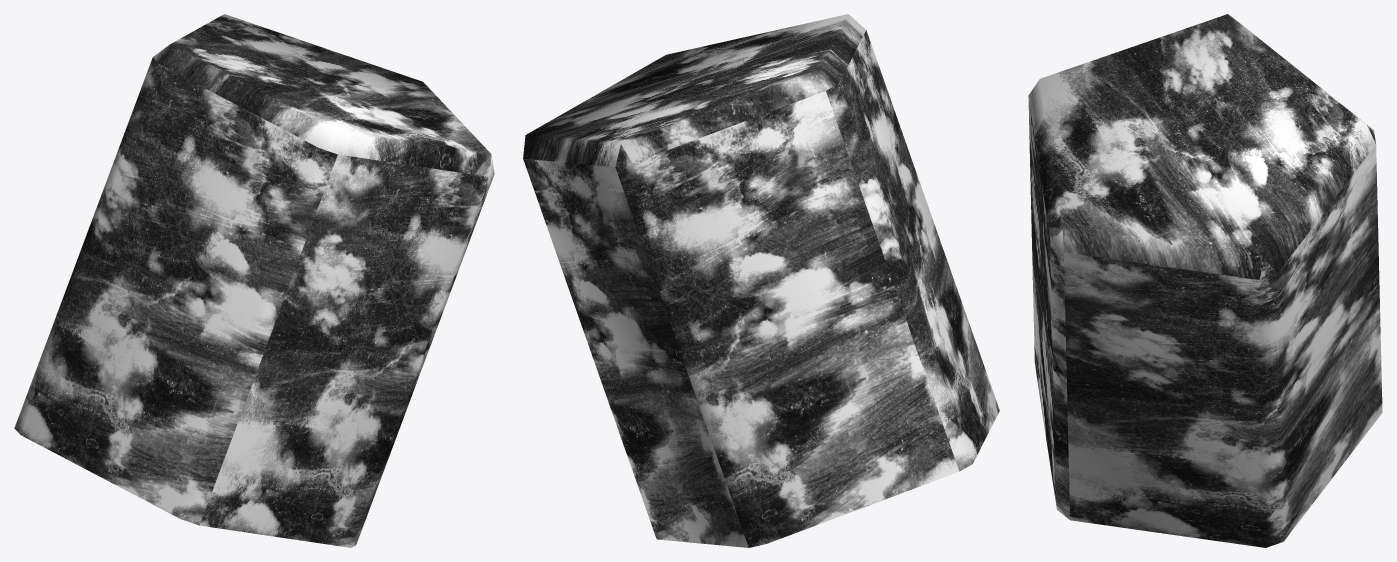
The model's file is Hex.FBX.
3 renders of one model, left to right at view 1: azimuth 30°, elevation 25°; view 2: azimuth 150°, elevation 25°; view 3: azimuth 270°, elevation 25°, orthographic. The views are drawn at different scales.
Parts seen in each view (by area): view 1: Cylinder004; view 2: Cylinder004; view 3: Cylinder004.
Boxes of the visible parts, x1,y1,x2,y2 form: Cylinder004: (14,14,494,547); Cylinder004: (523,14,999,547); Cylinder004: (1028,14,1382,547).
Size of the model in its own units: 8.81 by 9.5 by 6.52.
